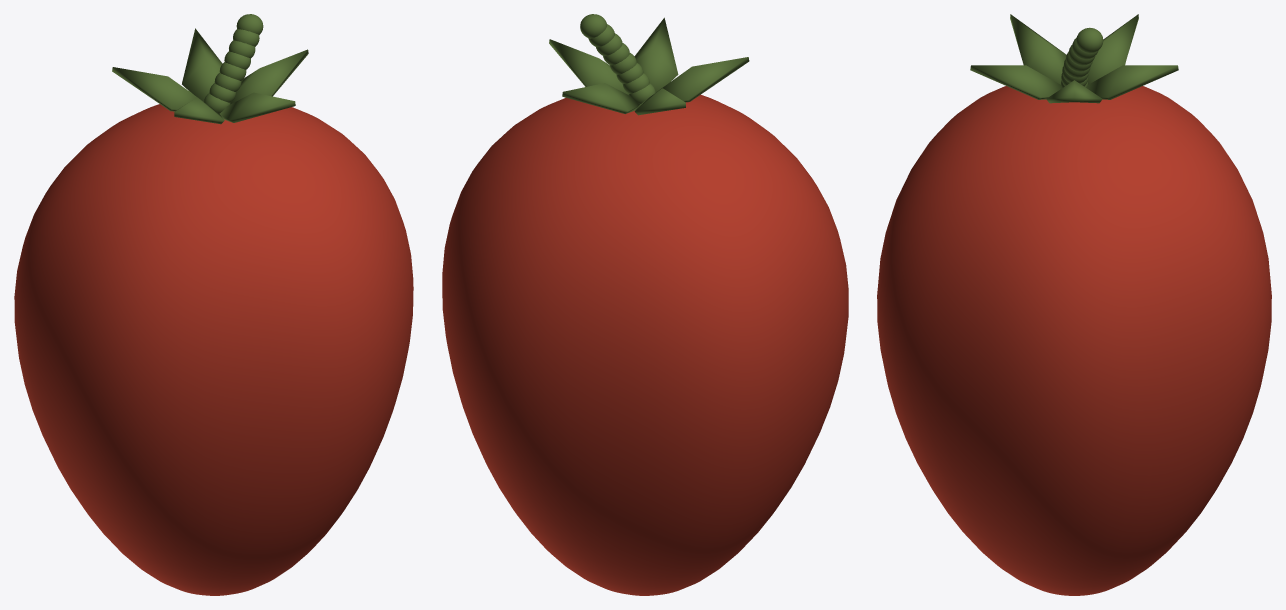
The model's file is plum.glb.
3 views of the same model, side by side, from view 1: azimuth 30°, elevation 25°; view 2: azimuth 150°, elevation 25°; view 3: azimuth 270°, elevation 25° (orthographic). The views are drawn at different scales.
Parts seen in each view (by area): view 1: Compact tapered Plum shell, Folded five-point Plum crown; view 2: Compact tapered Plum shell, Folded five-point Plum crown; view 3: Compact tapered Plum shell, Folded five-point Plum crown.
Boxes of the visible parts, x1=… form: Compact tapered Plum shell: x1=14, y1=104, x2=413, y2=595; Folded five-point Plum crown: x1=112, y1=14, x2=308, y2=124; Compact tapered Plum shell: x1=442, y1=94, x2=848, y2=595; Folded five-point Plum crown: x1=549, y1=14, x2=749, y2=115; Compact tapered Plum shell: x1=877, y1=86, x2=1271, y2=595; Folded five-point Plum crown: x1=970, y1=14, x2=1178, y2=103.
Size of the model in its own units: 0.9572 by 1.46 by 0.9004.
